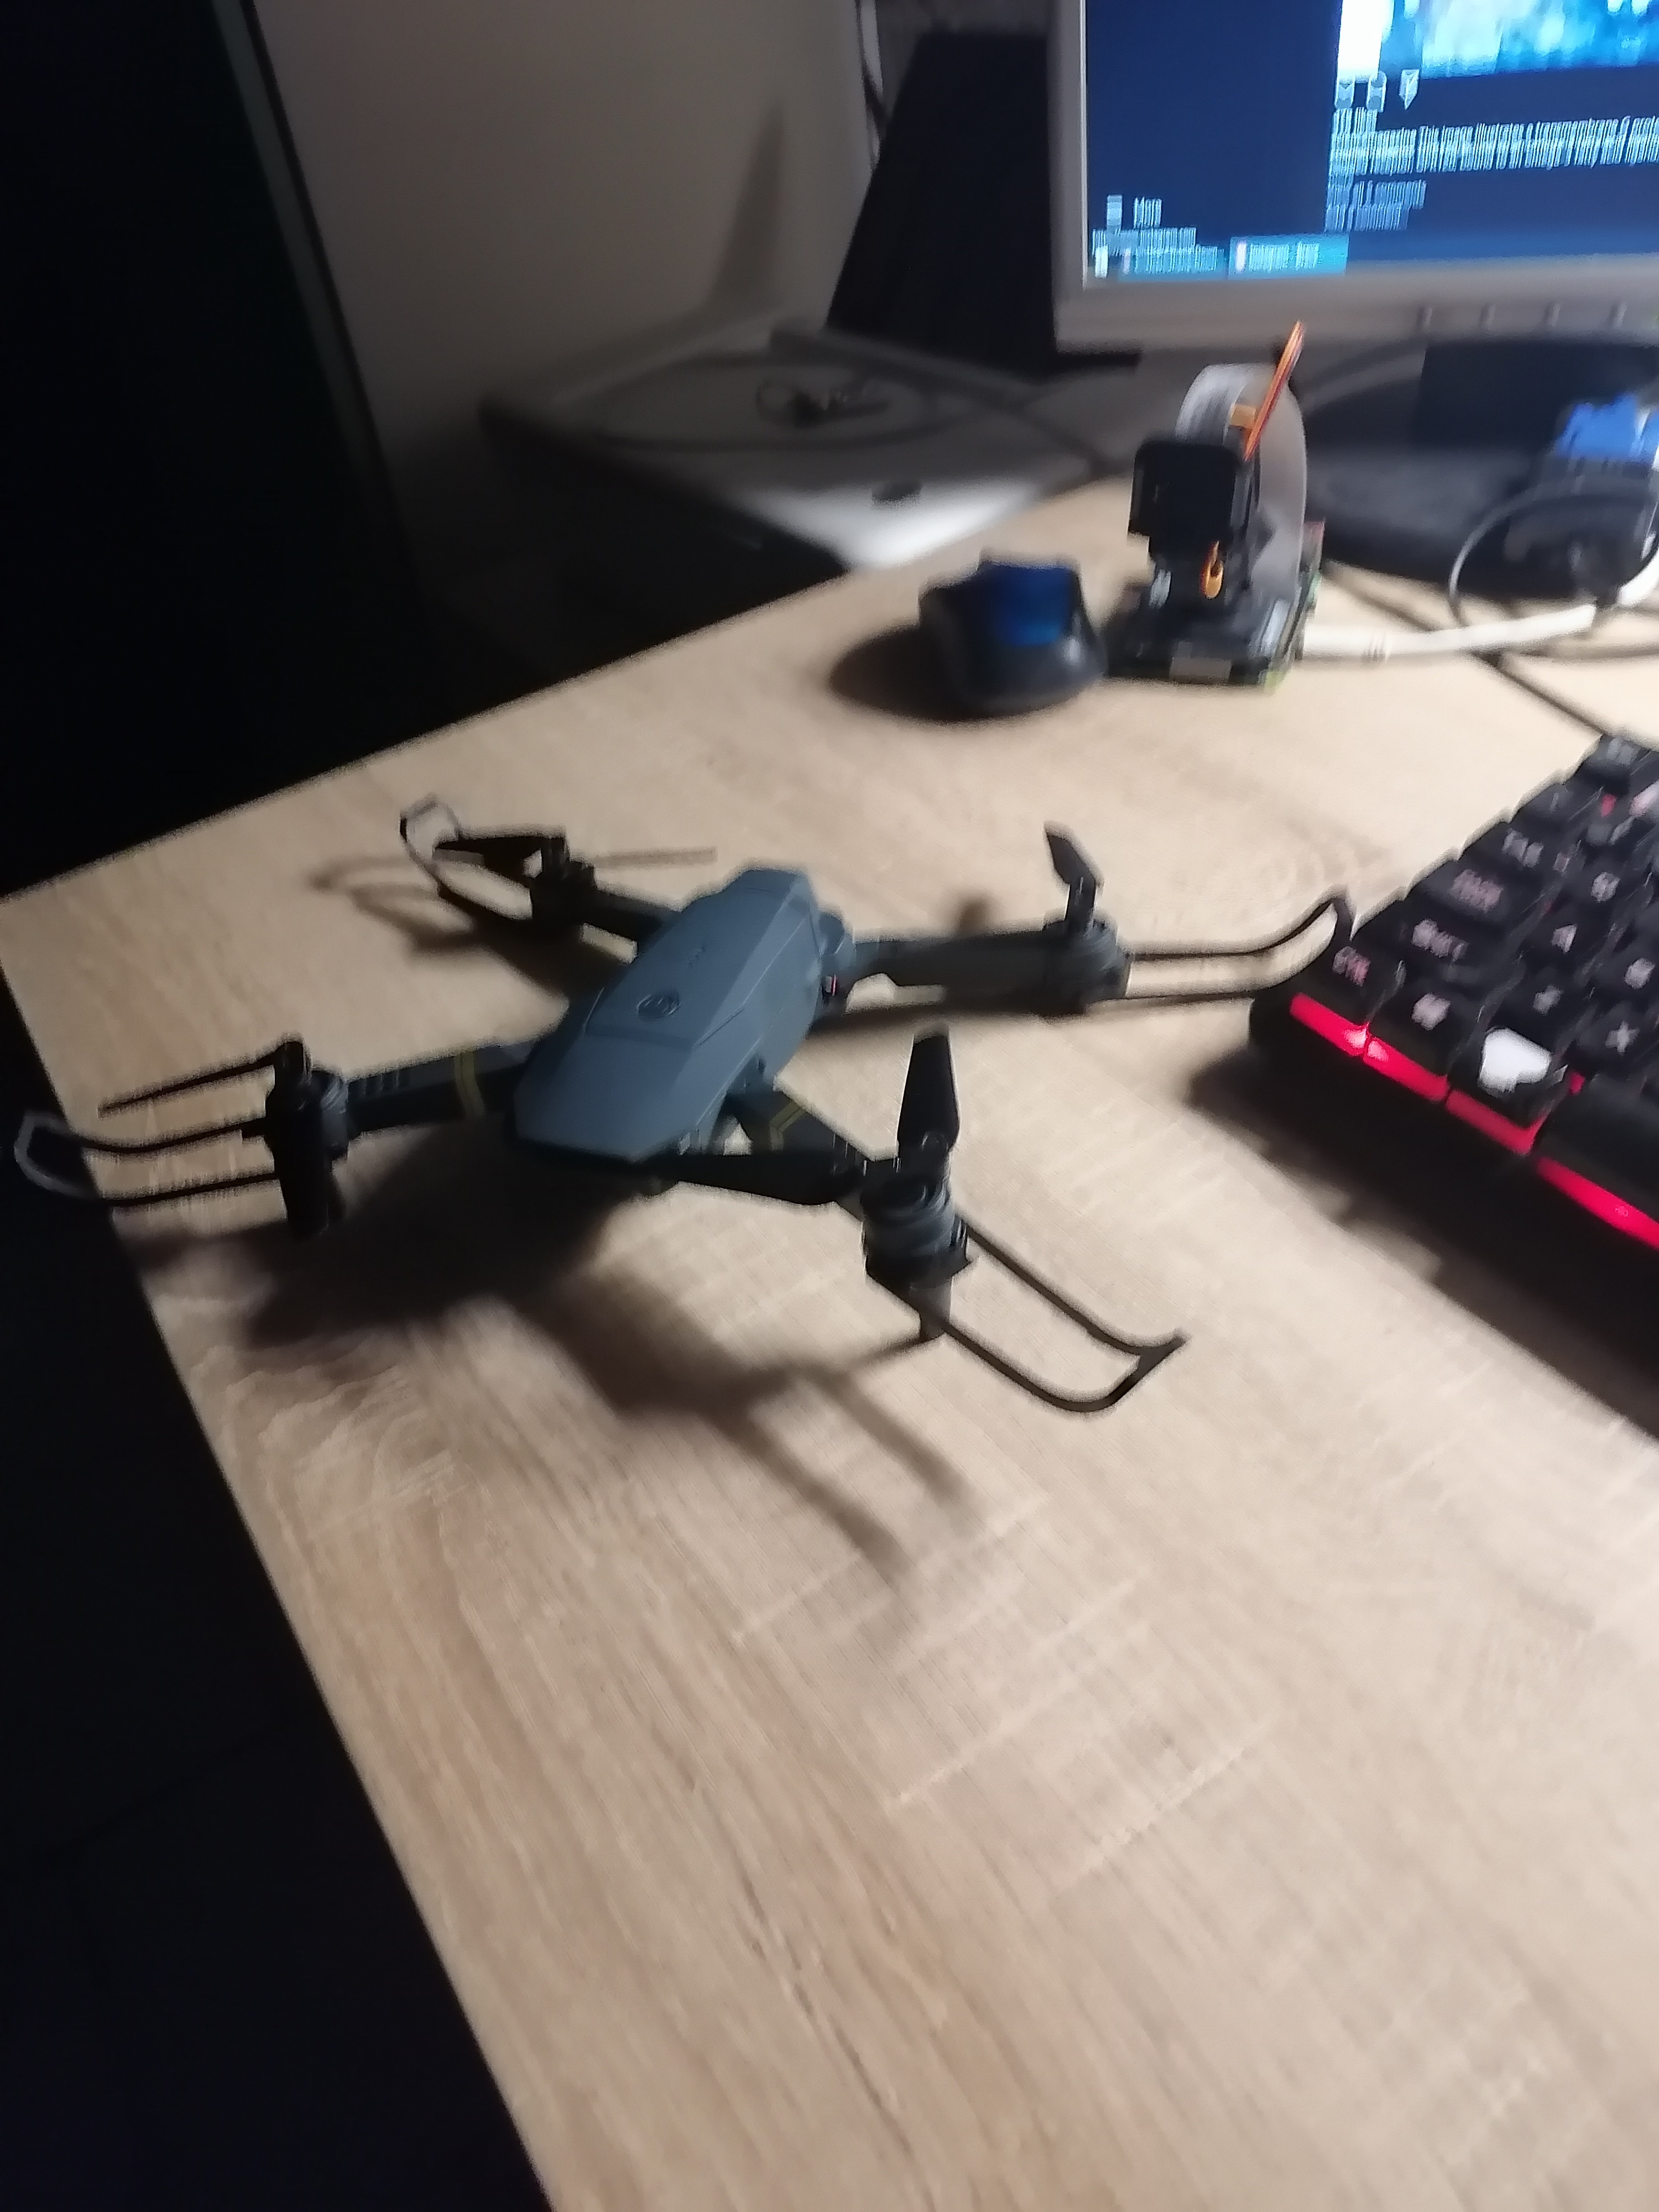drone: (314, 773, 1187, 1454)
